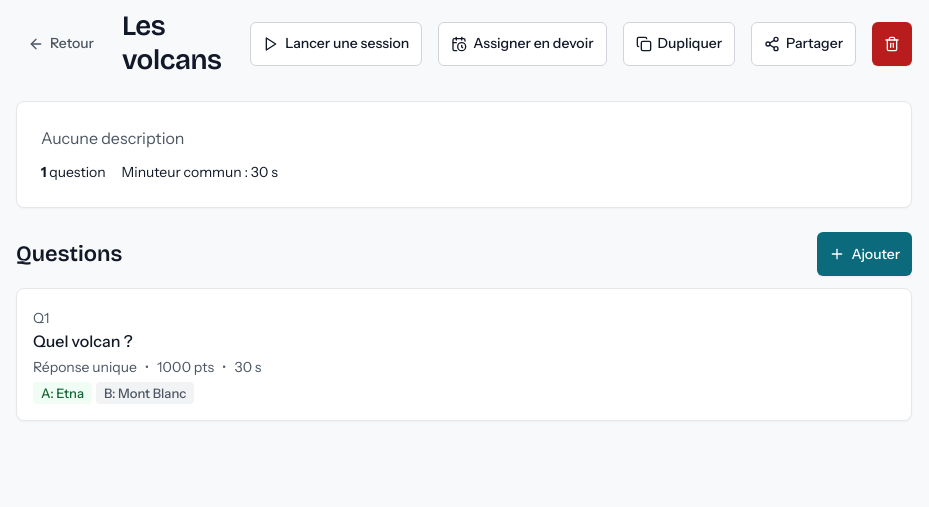
Test: Page du quiz : dupliquer et partager › affiche une erreur si la duplication échoue
Click the button "Dupliquer" at [679, 44], box [622,22,735,66]
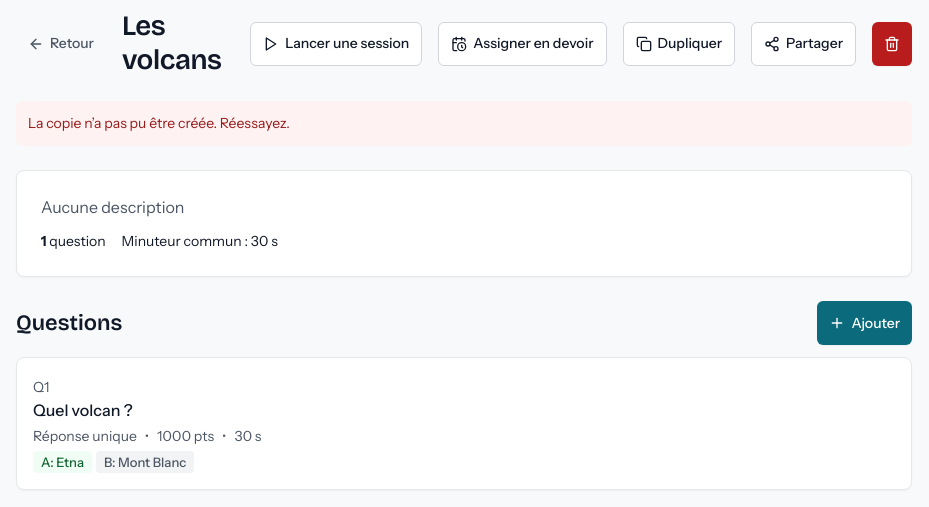
expect the message shows "La copie n’a pas pu être créée": met, box [28,114,290,132]
